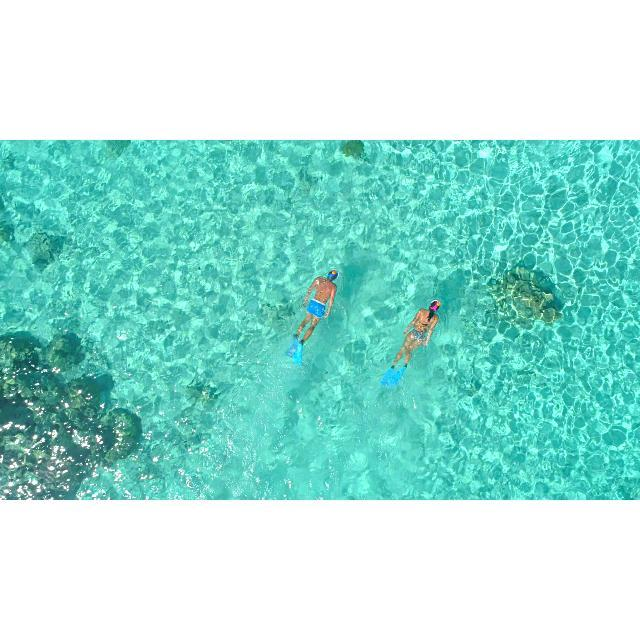human: (293, 271, 339, 358), (392, 298, 440, 375)
